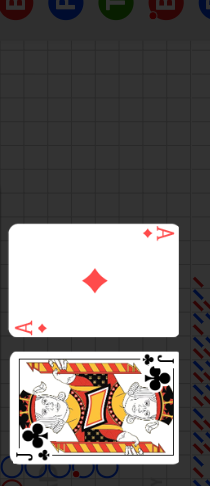AD: (140, 226, 176, 243)
JC: (15, 447, 53, 463)
